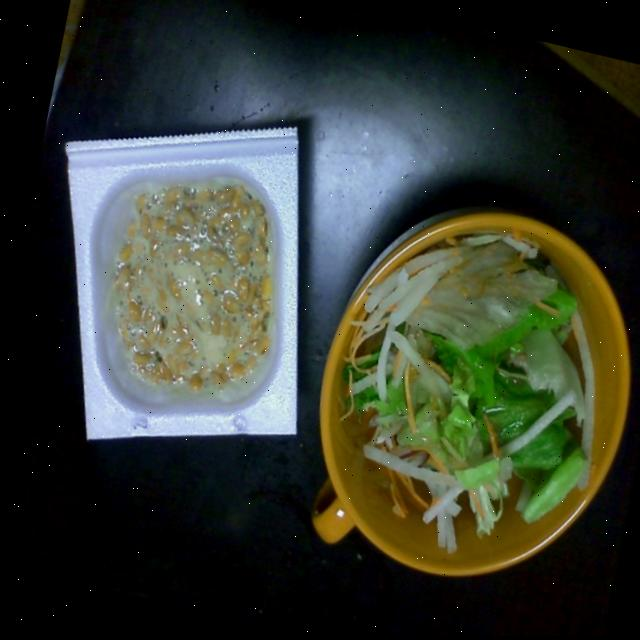蔬菜料理: (290, 197, 640, 586)
